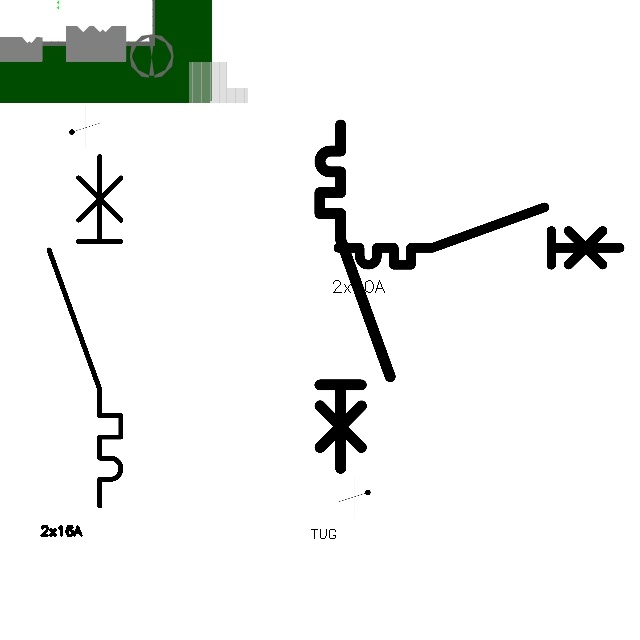interruptor_termomagnetico: (40, 147, 130, 515), (311, 116, 399, 477), (331, 200, 627, 272)
